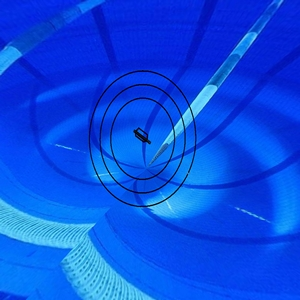circle: (89, 64, 205, 209)
submarine: (133, 122, 156, 150)
